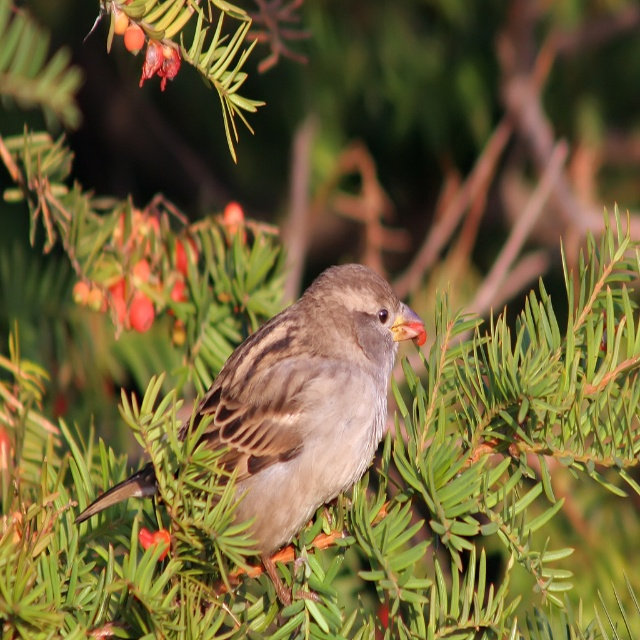Sparrow: (72, 264, 427, 639)
